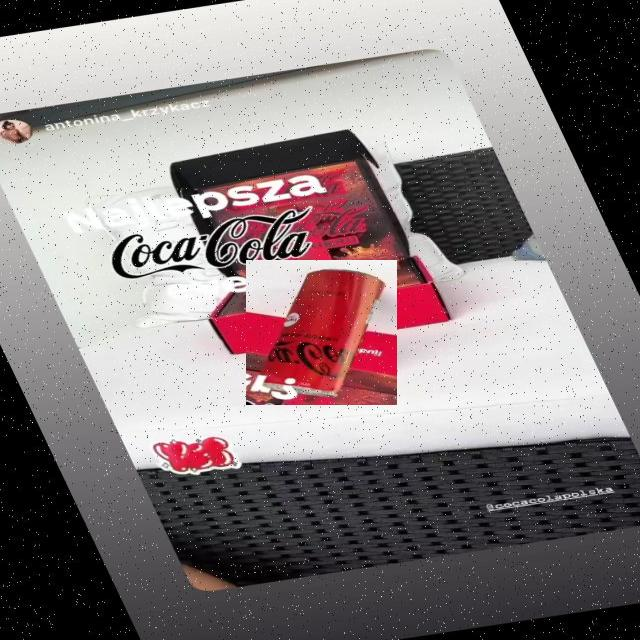coca-cola: (246, 260, 397, 405)
